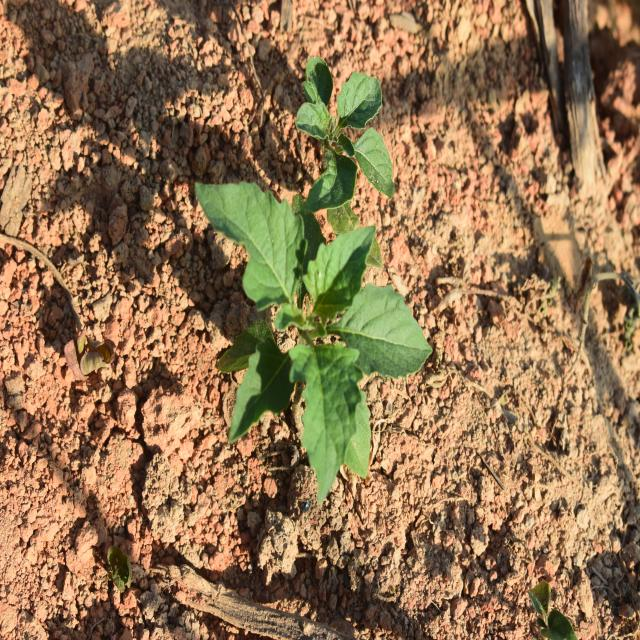Black_nightshade: (202, 174, 421, 472), (275, 52, 395, 216)
